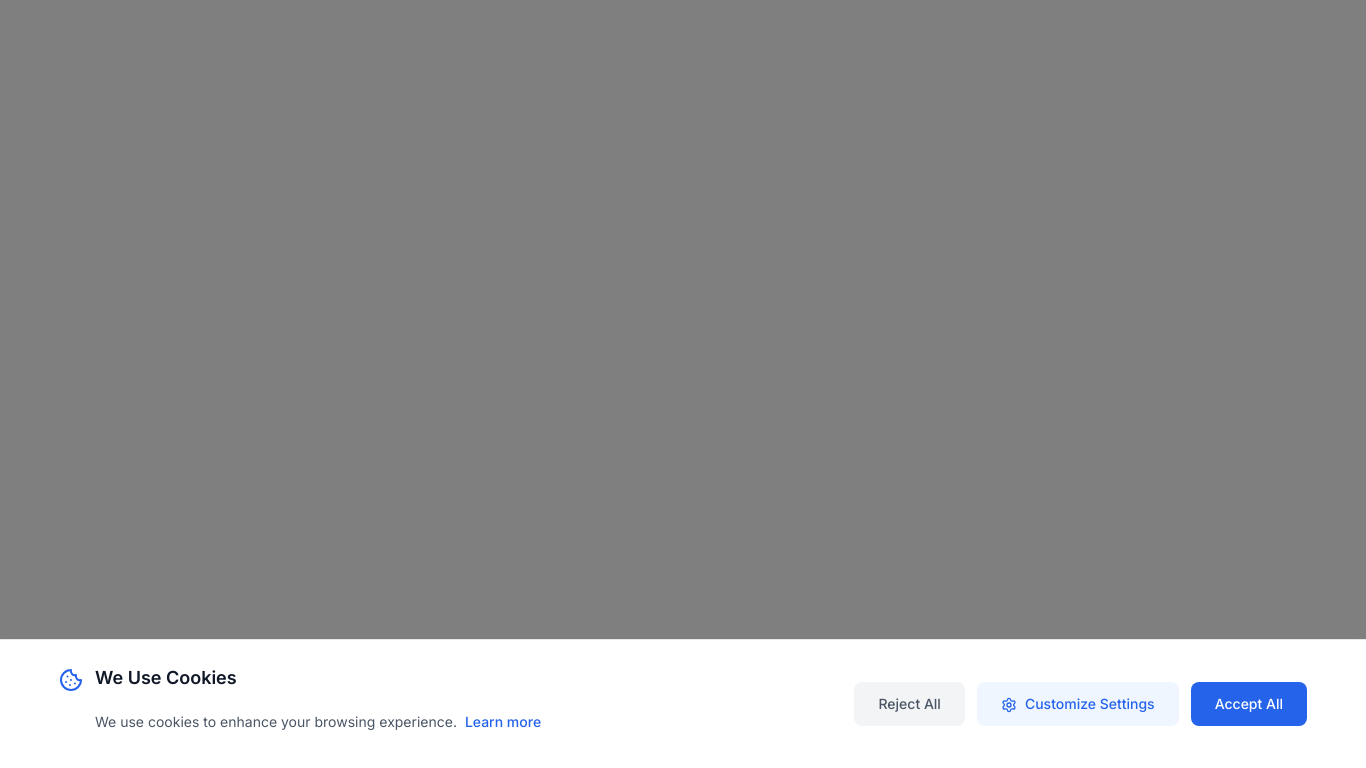
it: CookieConsentBanner › opens detailed settings when Learn more is clicked
Click the button "Learn more" at [503, 722], box [461, 700, 545, 744]
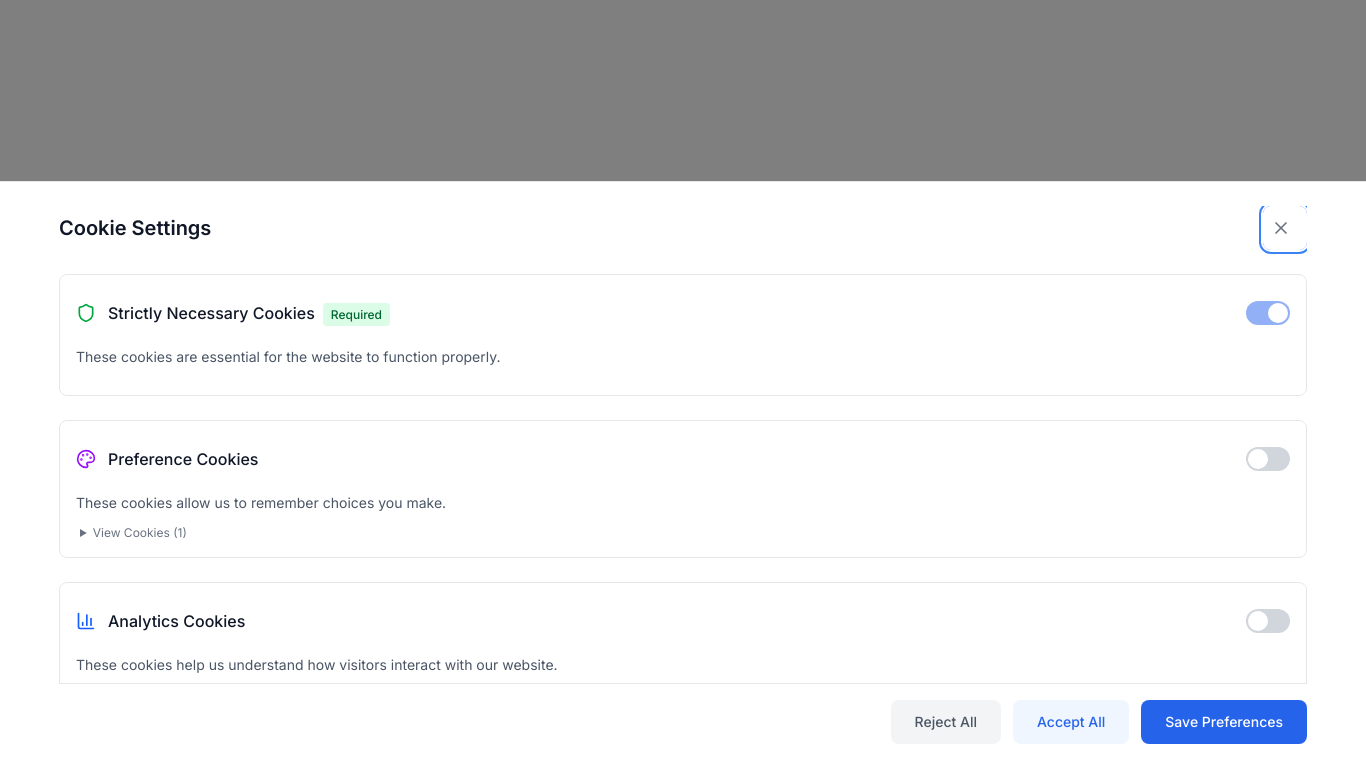
Check: the heading "Cookie Settings" is shown, box [59, 214, 211, 242]
